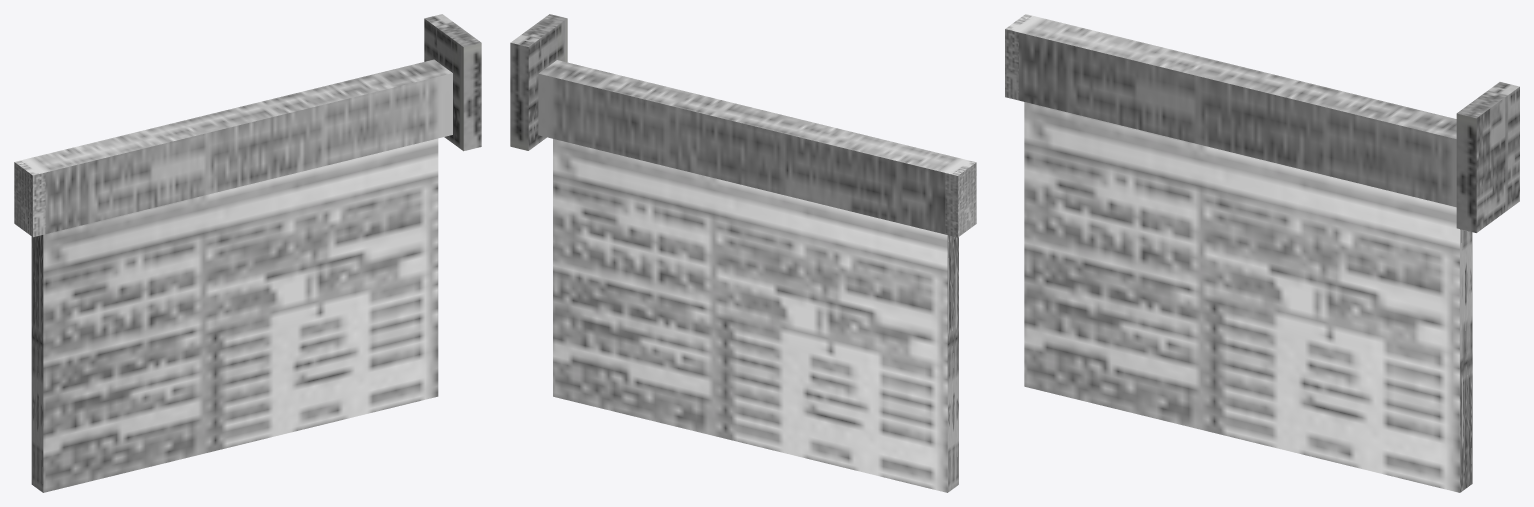
The model's file is BR_Exit_picture.glb.
The picture shows the model from 3 angles, left to right: view 1: azimuth 30°, elevation 25°; view 2: azimuth 150°, elevation 25°; view 3: azimuth 330°, elevation 25°; orthographic projection. The views are drawn at different scales.
Visible parts, largest first — view 1: Exit picture; view 2: Exit picture; view 3: Exit picture.
Boxes of the visible parts, left/top/right/bottom form: Exit picture: left=14, top=14, right=481, bottom=492; Exit picture: left=510, top=14, right=976, bottom=492; Exit picture: left=1005, top=14, right=1519, bottom=492.
Bounding box in the file's own units: 0.3492 × 0.2721 × 0.0543.
1 material, 1 textured.
